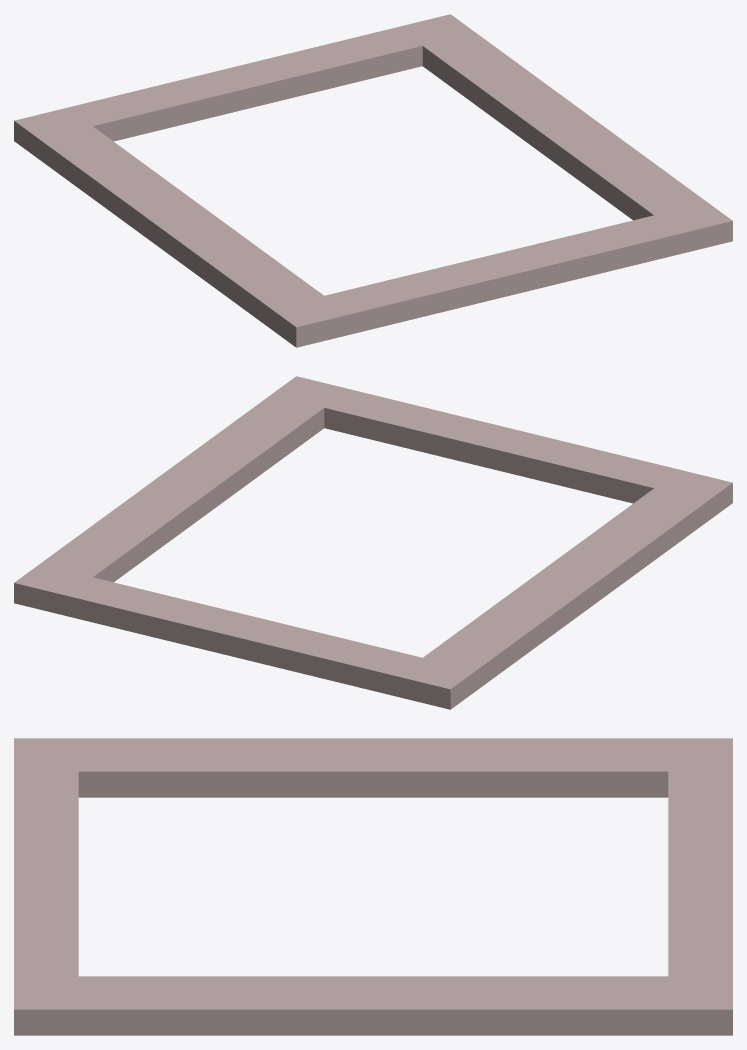
Rendered from keep-wd02_66.obj.
3 renders of one model, top to bottom at view 1: azimuth 30°, elevation 25°; view 2: azimuth 150°, elevation 25°; view 3: azimuth 270°, elevation 25°, orthographic. The views are drawn at different scales.
Bounding box in the file's own units: 0.6719 × 0.03 × 0.7529.
Materials: 1 (1 with a texture image).
